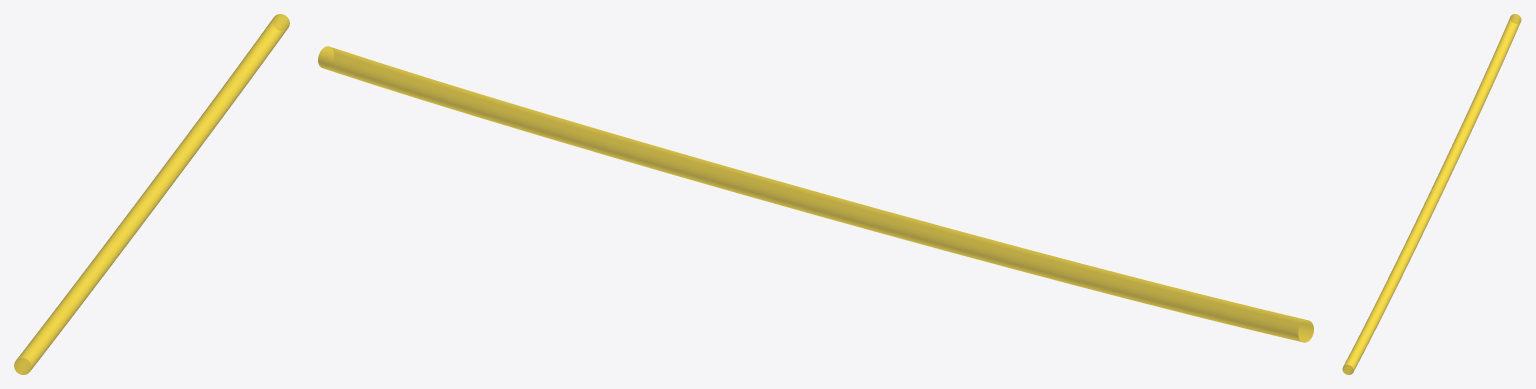
File: Event_15818458_track_10.fbx
3 renders of one model, left to right at view 1: azimuth 90°, elevation 25°; view 2: azimuth 150°, elevation 25°; view 3: azimuth 270°, elevation 25°, orthographic. The views are drawn at different scales.
Parts seen in each view (by area): view 1: Model; view 2: Model; view 3: Model.
Part boxes in pixels (x1,y1,x2,y2): Model: (14, 14, 289, 374); Model: (318, 46, 1313, 342); Model: (1342, 14, 1521, 374).
Size of the model in its own units: 2.33 by 0.2799 by 0.6104.
